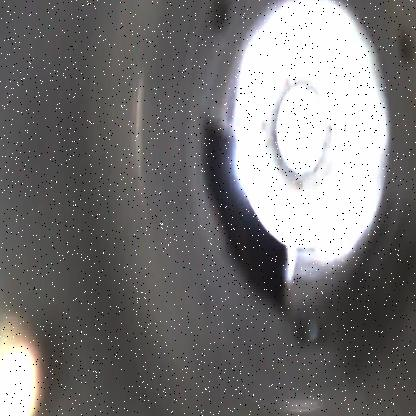Crack2: (201, 120, 293, 310)
